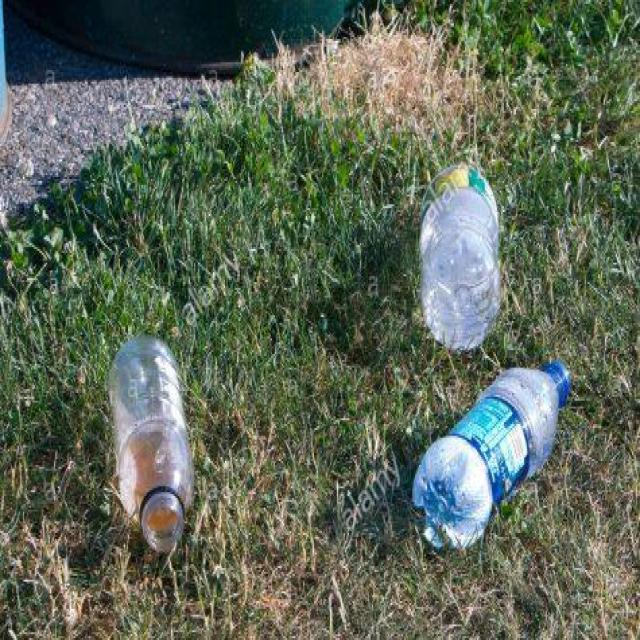bottle: (408, 358, 574, 547), (103, 340, 195, 553)
